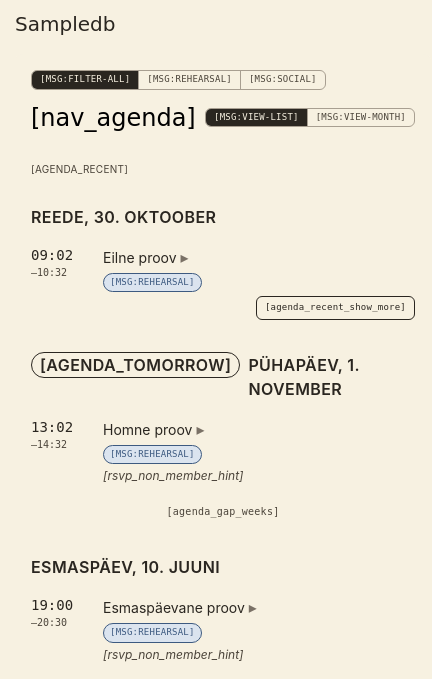
#247 — SCOPE (Gama ruling): month mode consumes `items` ONLY, never recentItems › the current month shows only its REMAINDER: past days live in recent and stay off-screen (deliberate, not a gap)
The image size is (432, 679).
Click the button "[msg:view-month]". click: (361, 118)
box: 308,109 -> 414,126
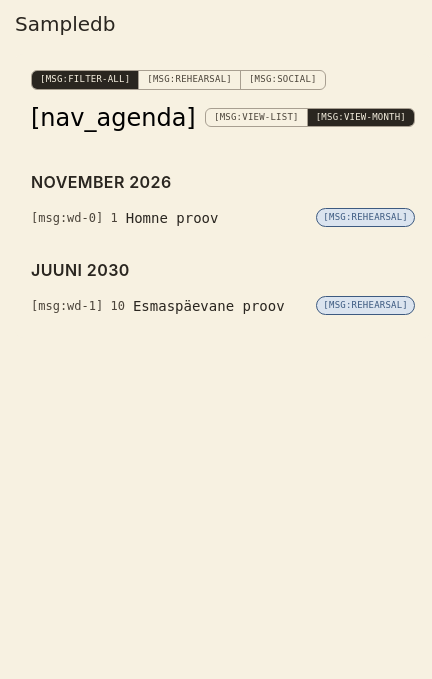
Expected: the element with test id "agenda-recent" is gone
